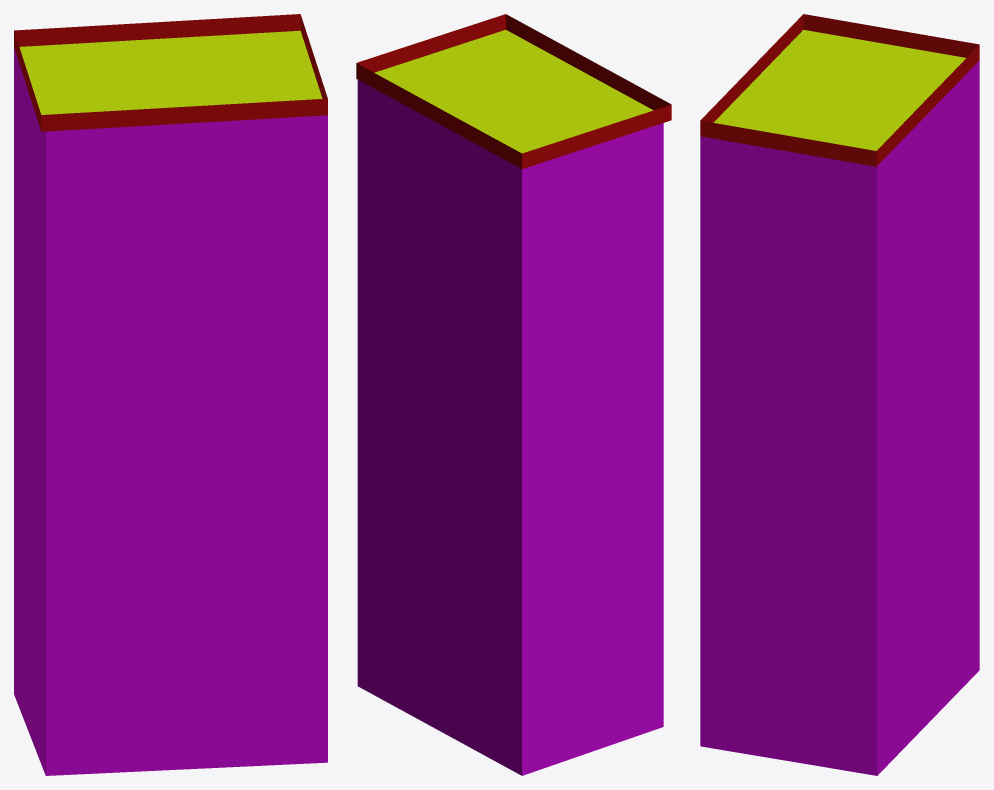
The model's file is sbl_35.glb.
3 renders of one model, left to right at view 1: azimuth 30°, elevation 25°; view 2: azimuth 150°, elevation 25°; view 3: azimuth 270°, elevation 25°, orthographic. The views are drawn at different scales.
Visible parts, largest first — view 1: sbl_35; view 2: sbl_35; view 3: sbl_35.
Part boxes in pixels (<box>): sbl_35: <box>14,14,327,775</box>; sbl_35: <box>356,14,671,775</box>; sbl_35: <box>700,14,979,775</box>.
Bounding box in the file's own units: 6.52 × 13.89 × 5.62.
